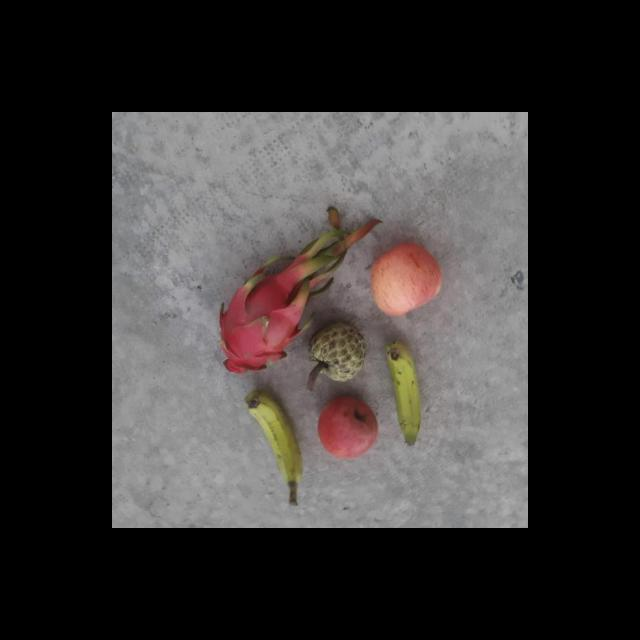Sakya fruit: (304, 327, 368, 381)
apple: (368, 233, 446, 321), (317, 387, 383, 462)
banana: (384, 336, 432, 444), (246, 390, 298, 486)
pitaya: (215, 272, 308, 374)
